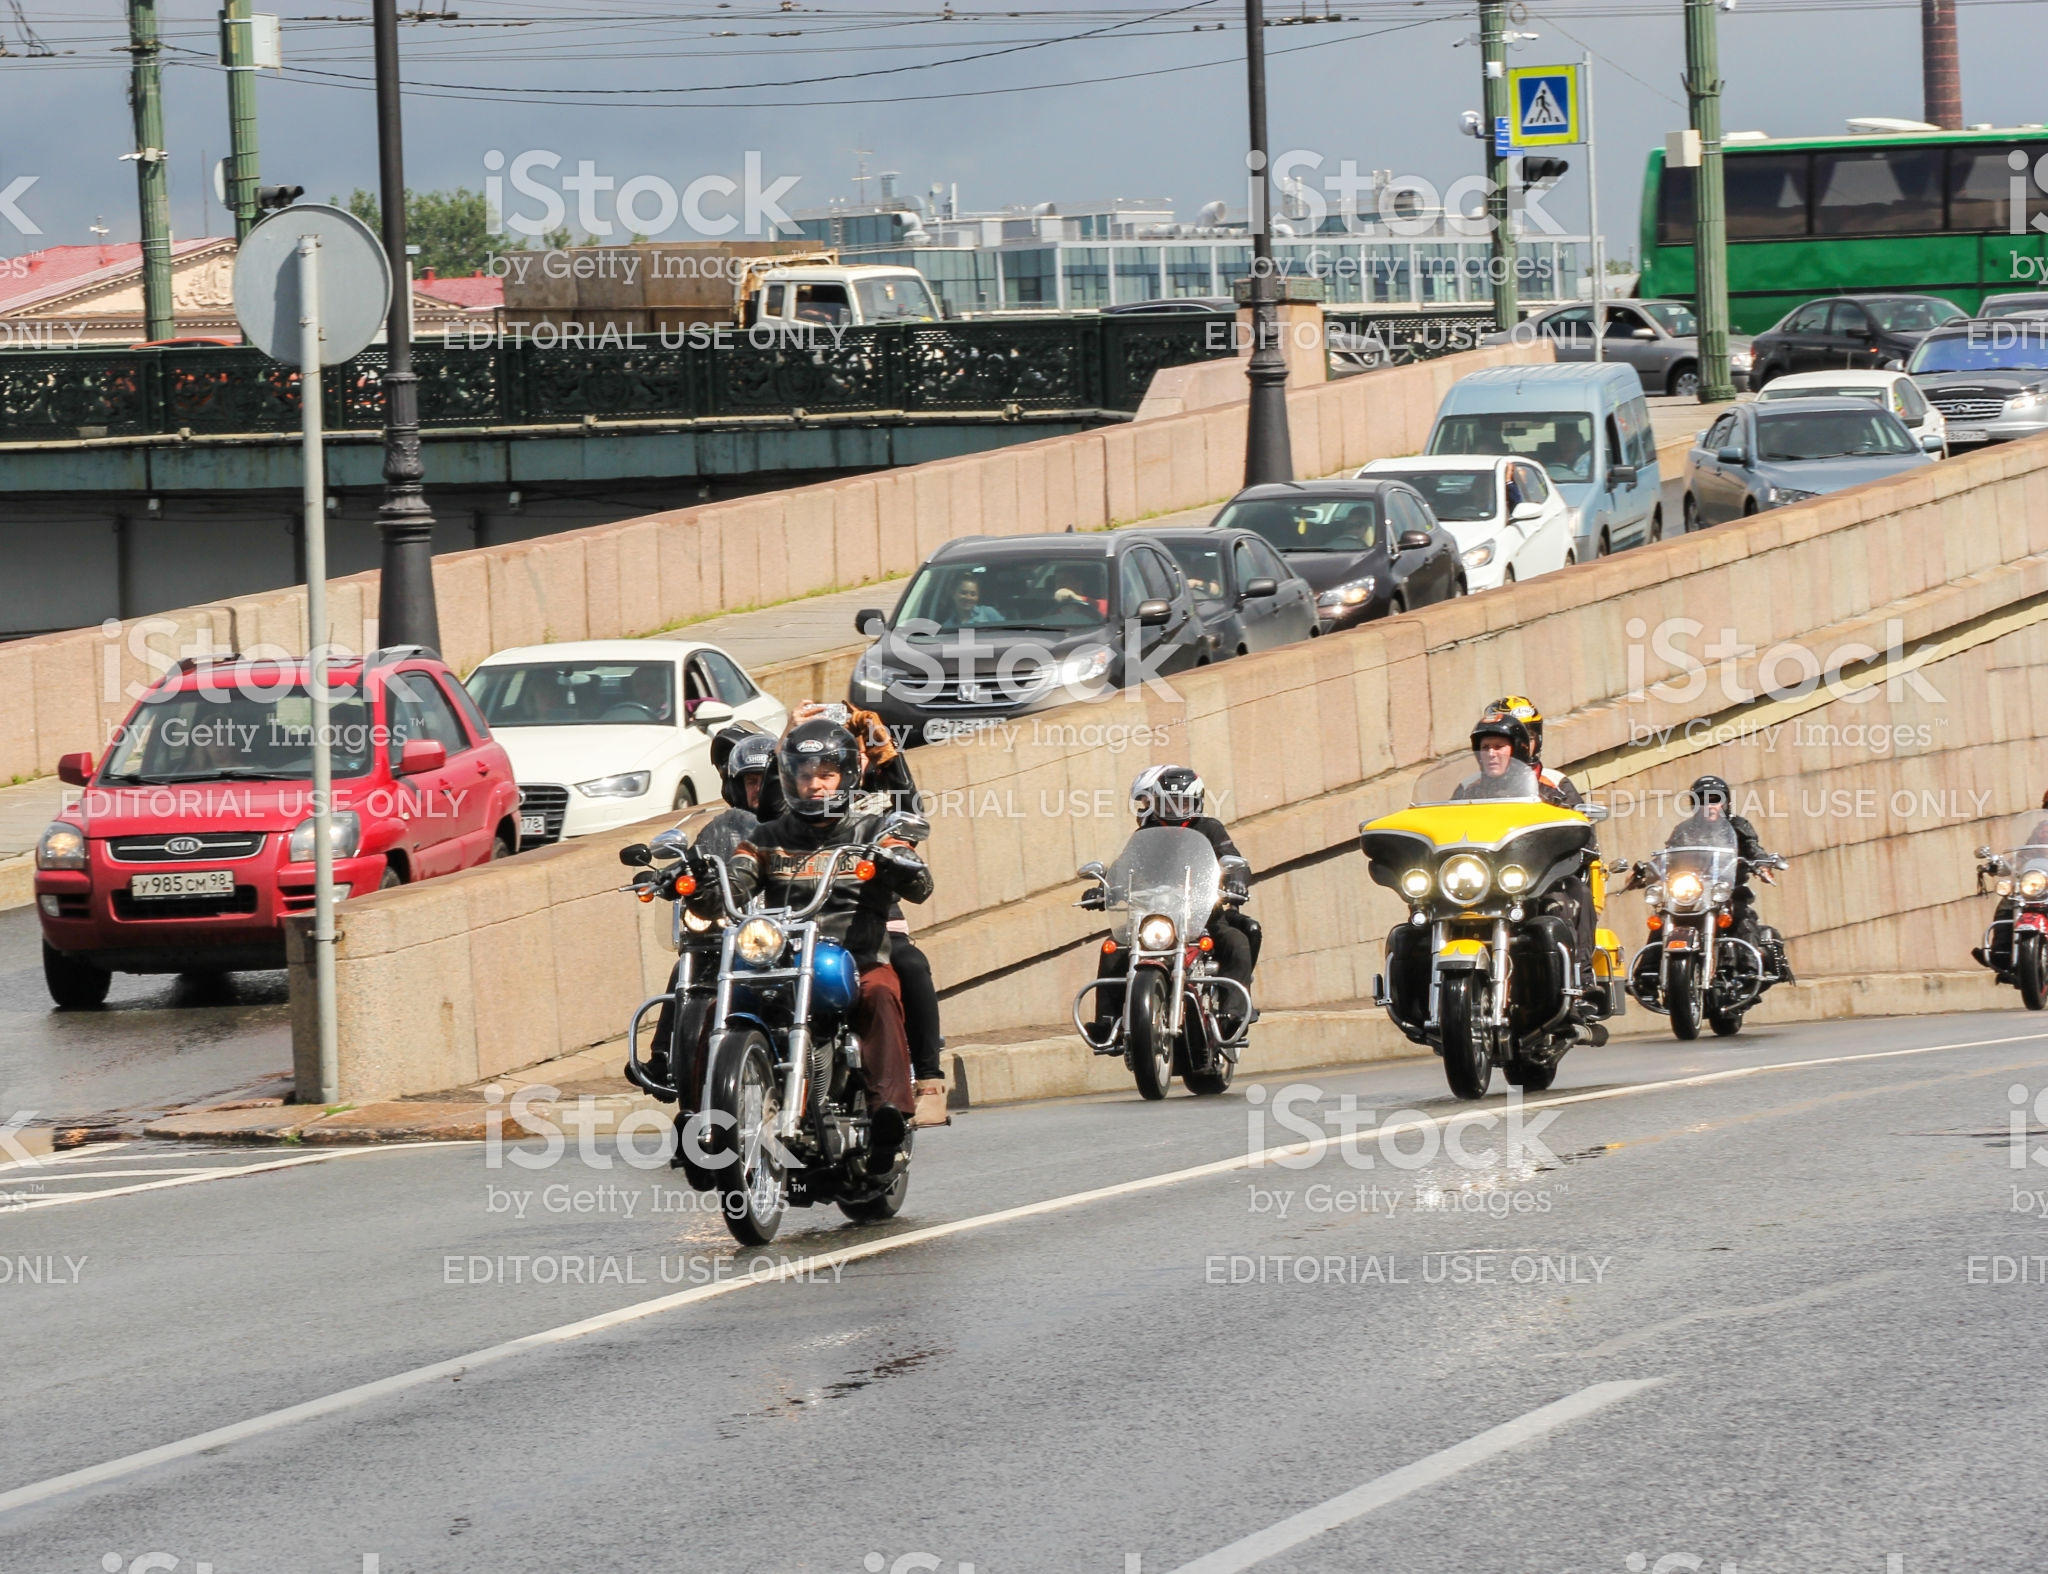helmet: (782, 719, 853, 785), (1150, 770, 1212, 813), (1460, 719, 1516, 741)
